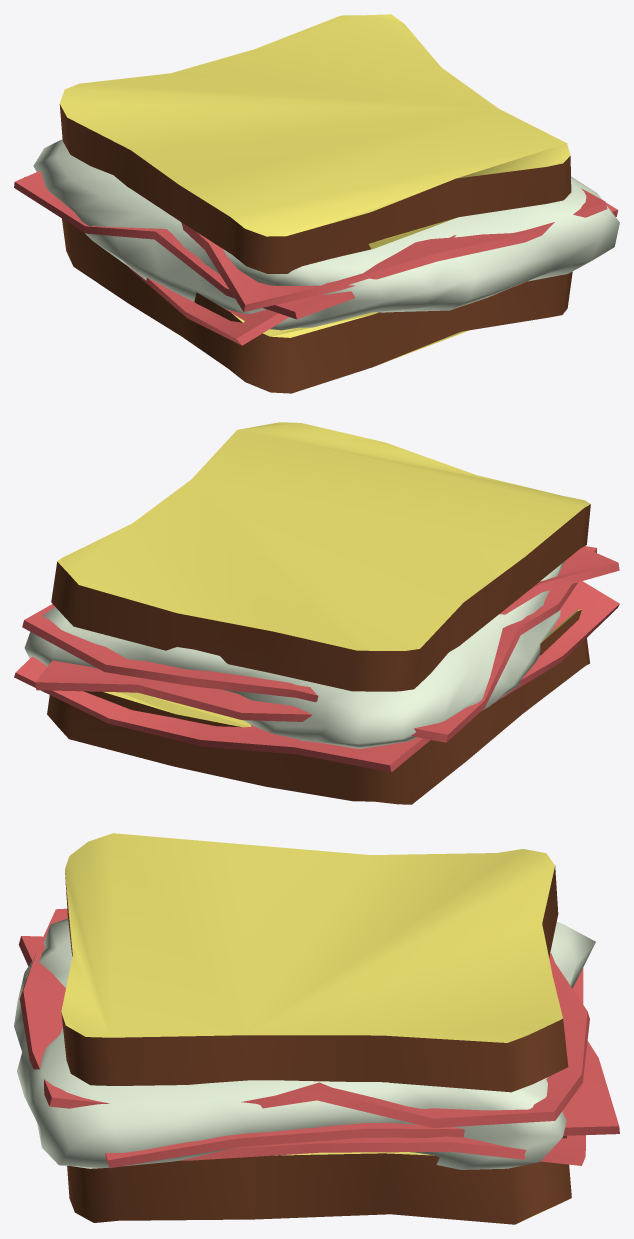
Rendered from SM_CroqueMonsieur.FBX.
The picture shows the model from 3 angles, top to bottom: view 1: azimuth 30°, elevation 25°; view 2: azimuth 150°, elevation 25°; view 3: azimuth 270°, elevation 25°; orthographic projection. The views are drawn at different scales.
Visible parts, largest first — view 1: SM_CroqueMonsieur; view 2: SM_CroqueMonsieur; view 3: SM_CroqueMonsieur.
Part boxes in pixels (bbox=[...]): SM_CroqueMonsieur: bbox=[14, 14, 619, 393]; SM_CroqueMonsieur: bbox=[14, 422, 619, 804]; SM_CroqueMonsieur: bbox=[14, 833, 619, 1224].
Size of the model in its own units: 10.19 by 3.87 by 10.46.
